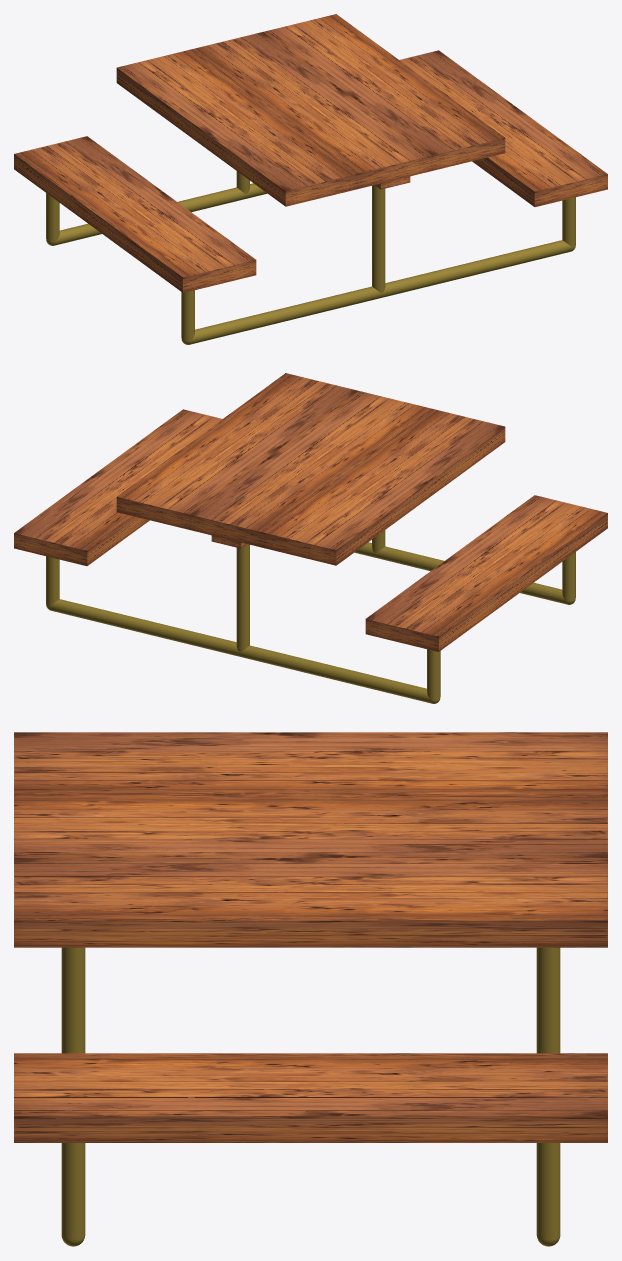
File: parkBench.obj
3 views of the same model, one above another, from view 1: azimuth 30°, elevation 25°; view 2: azimuth 150°, elevation 25°; view 3: azimuth 270°, elevation 25° (orthographic). The views are drawn at different scales.
Visible parts, largest first — view 1: bench4, bench1, bench2, bench3, bench, baseD1, baseD2, baseR5, baseR1, baseR2, baseR3; view 2: bench4, bench1, bench2, bench3, bench, baseD2, baseD1, baseR6, baseR3, baseR4, baseR1; view 3: bench, bench2, bench4, bench3, baseR5, baseR6, baseR2, baseR4.
Boxes of the visible parts, x1=… form: bench4: x1=116, y1=49, x2=358, y2=206; bench1: x1=14, y1=136, x2=256, y2=292; bench2: x1=263, y1=14, x2=505, y2=170; bench3: x1=190, y1=32, x2=432, y2=188; bench: x1=399, y1=50, x2=607, y2=206; baseD1: x1=190, y1=240, x2=571, y2=344; baseD2: x1=55, y1=183, x2=267, y2=245; baseR5: x1=372, y1=185, x2=385, y2=292; baseR1: x1=181, y1=290, x2=194, y2=340; baseR2: x1=562, y1=197, x2=575, y2=247; baseR3: x1=46, y1=193, x2=59, y2=241; bench4: x1=263, y1=408, x2=505, y2=565; bench1: x1=365, y1=495, x2=607, y2=651; bench2: x1=116, y1=373, x2=358, y2=529; bench3: x1=189, y1=391, x2=431, y2=547; bench: x1=14, y1=409, x2=222, y2=565; baseD2: x1=50, y1=599, x2=431, y2=703; baseD1: x1=354, y1=542, x2=566, y2=604; baseR6: x1=236, y1=544, x2=249, y2=651; baseR3: x1=427, y1=649, x2=440, y2=699; baseR4: x1=46, y1=556, x2=59, y2=606; baseR1: x1=562, y1=552, x2=575, y2=600; bench: x1=14, y1=1053, x2=607, y2=1142; bench2: x1=14, y1=858, x2=607, y2=947; bench4: x1=14, y1=732, x2=607, y2=795; bench3: x1=14, y1=795, x2=607, y2=857; baseR5: x1=61, y1=947, x2=85, y2=1053; baseR6: x1=536, y1=947, x2=560, y2=1053; baseR2: x1=61, y1=1143, x2=85, y2=1239; baseR4: x1=536, y1=1143, x2=560, y2=1239.
Size of the model in its own units: 1.45 by 0.475 by 1.
